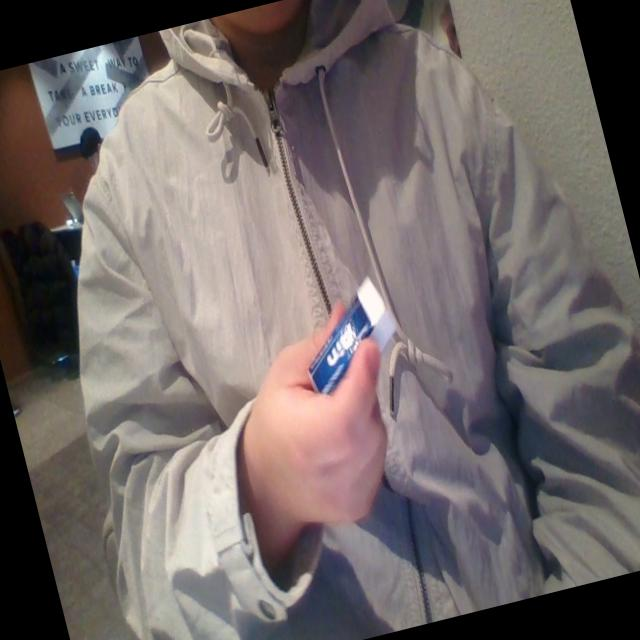eraser: (289, 276, 410, 404)
grab_eraser: (230, 268, 454, 562)
